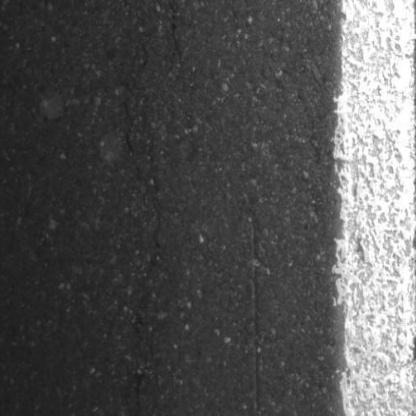Cracks: (123, 47, 166, 289), (159, 0, 186, 62)
